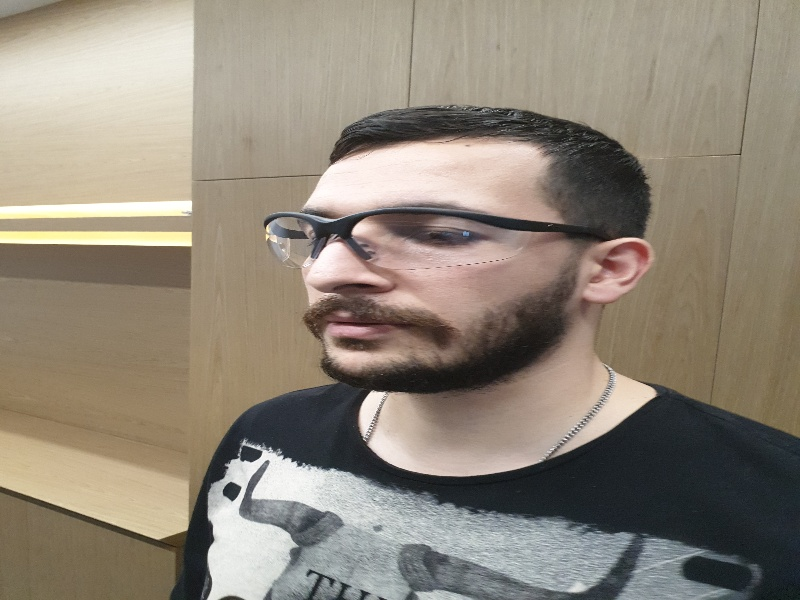Gozluk: (265, 208, 618, 266)
